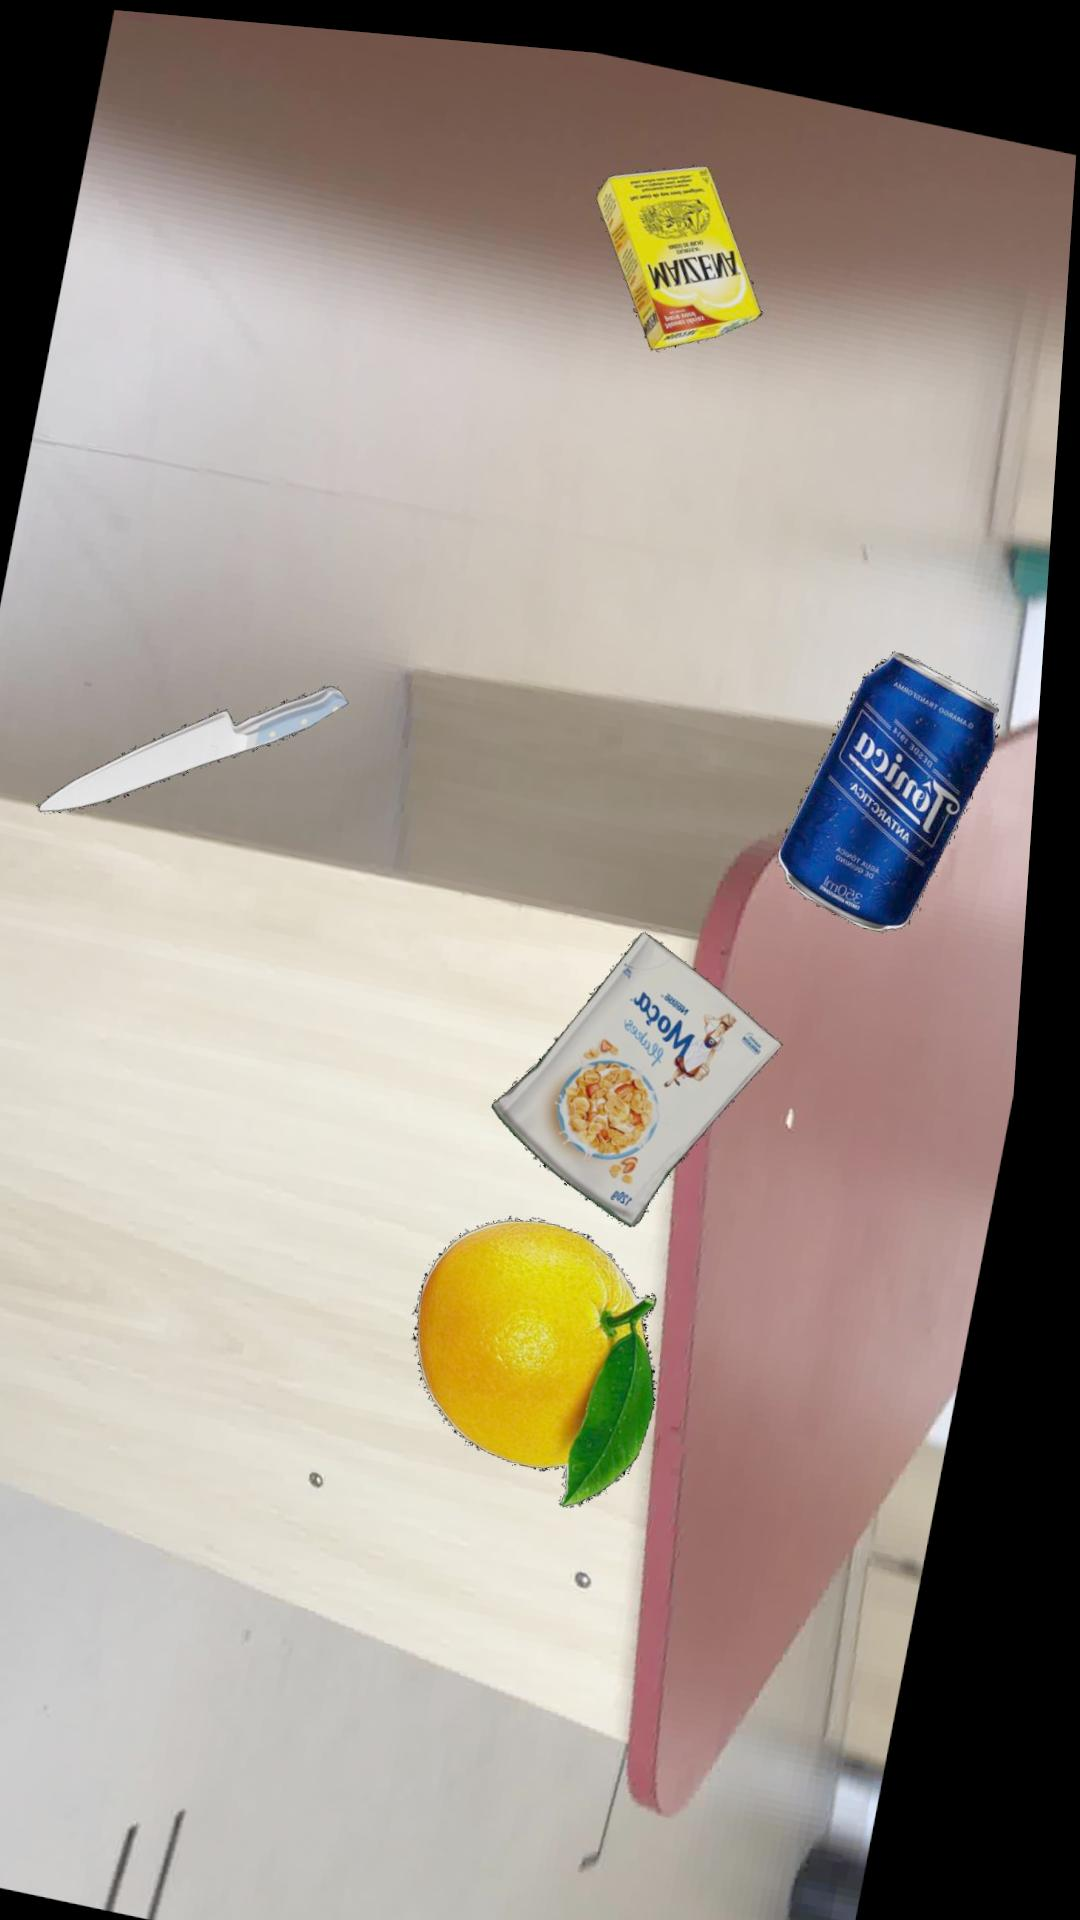corn flakes: (505, 916, 795, 1212)
knife: (47, 676, 356, 808)
orange: (431, 1205, 673, 1493)
tonic: (786, 632, 1006, 913)
